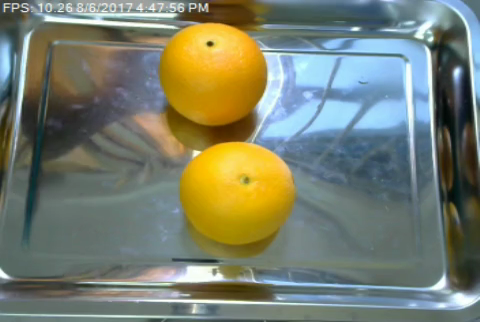Orange: (181, 139, 295, 243), (157, 21, 268, 127)
